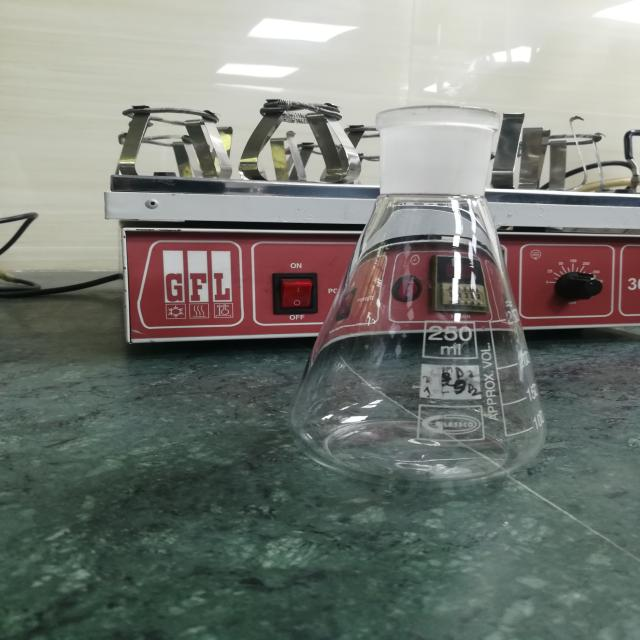Conical_Flask: (254, 61, 599, 510)
